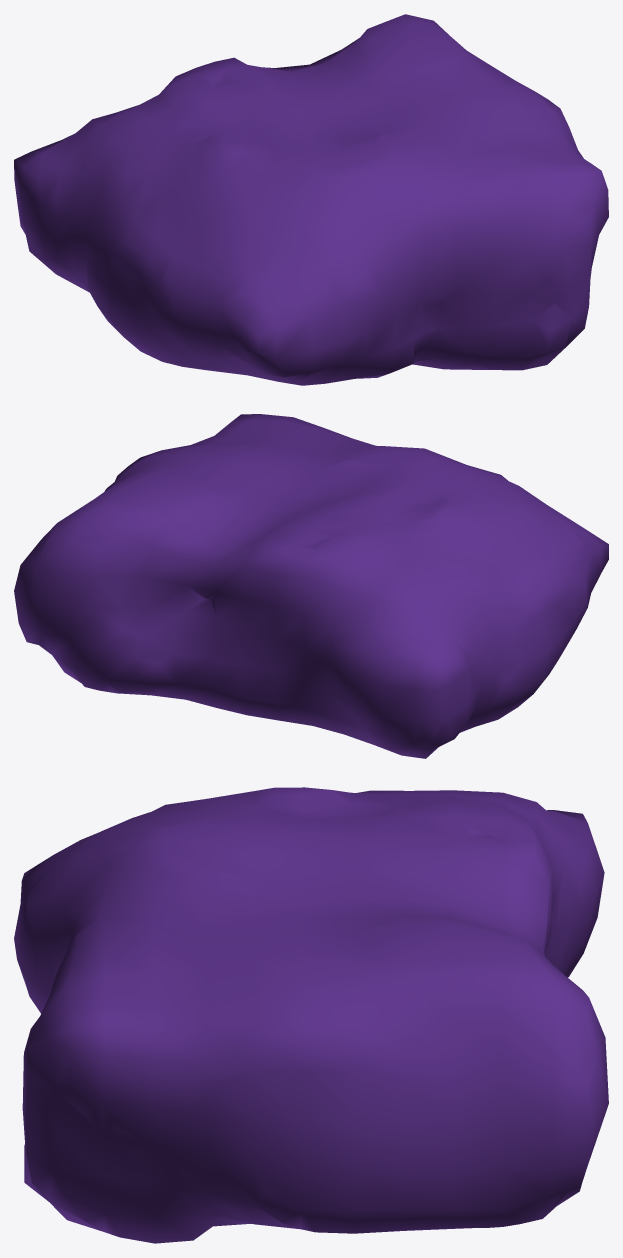
The model's file is eggplant.glb.
3 renders of one model, top to bottom at view 1: azimuth 30°, elevation 25°; view 2: azimuth 150°, elevation 25°; view 3: azimuth 270°, elevation 25°, orthographic. The views are drawn at different scales.
Visible parts, largest first — view 1: 茄子.001; view 2: 茄子.001; view 3: 茄子.001.
Boxes of the visible parts, x1,y1,x2,y2 form: 茄子.001: [14, 14, 608, 385]; 茄子.001: [14, 414, 608, 758]; 茄子.001: [14, 787, 608, 1243].
Size of the model in its own units: 1 by 0.4739 by 0.8644.
